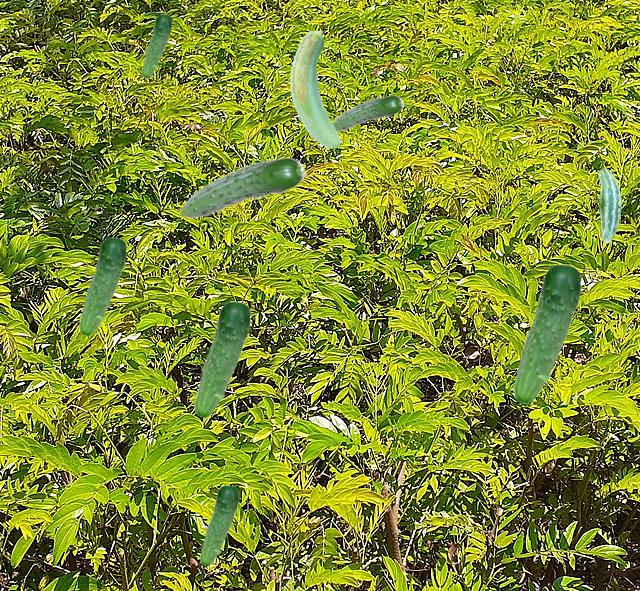cucumber: (512, 264, 581, 403), (179, 157, 305, 217), (193, 301, 250, 417), (290, 31, 339, 147), (78, 237, 126, 335), (199, 485, 238, 565), (333, 95, 403, 130), (141, 14, 171, 77), (598, 168, 620, 242)
